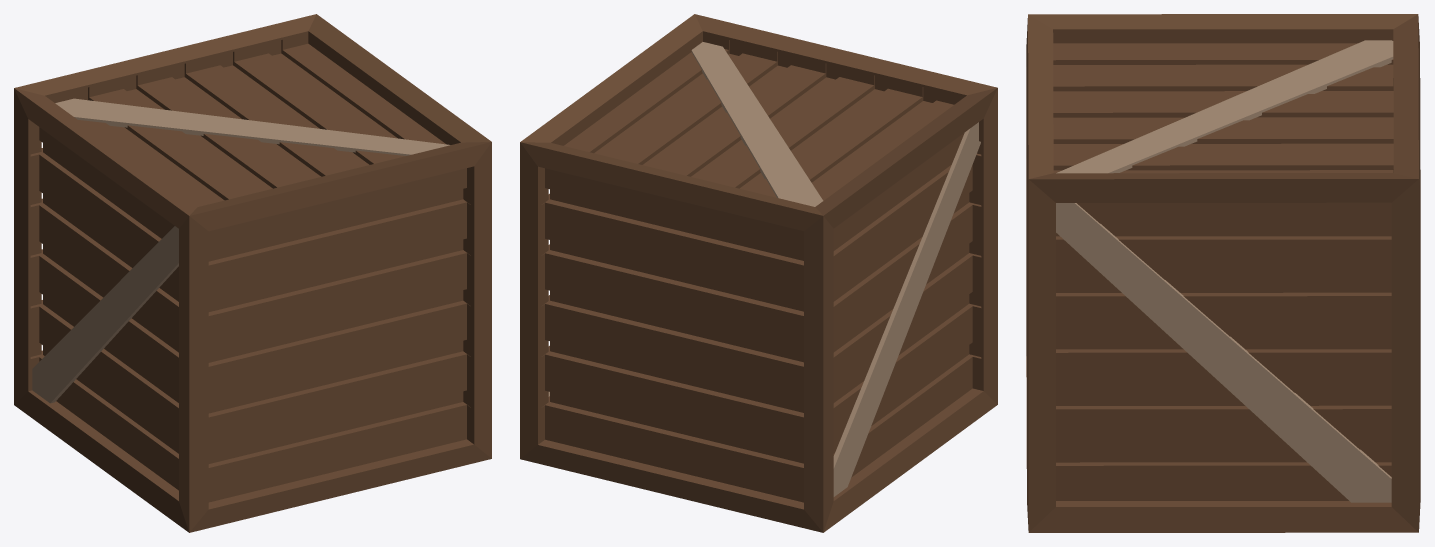
The picture shows the model from 3 angles, left to right: view 1: azimuth 30°, elevation 25°; view 2: azimuth 150°, elevation 25°; view 3: azimuth 270°, elevation 25°; orthographic projection. The views are drawn at different scales.
Visible parts, largest first — view 1: Cube.719; view 2: Cube.719; view 3: Cube.719.
Part boxes in pixels (x1,y1,x2,y2): Cube.719: (14,14,491,532); Cube.719: (520,14,997,532); Cube.719: (1026,14,1420,532).
Size of the model in its own units: 115 by 115 by 116.
